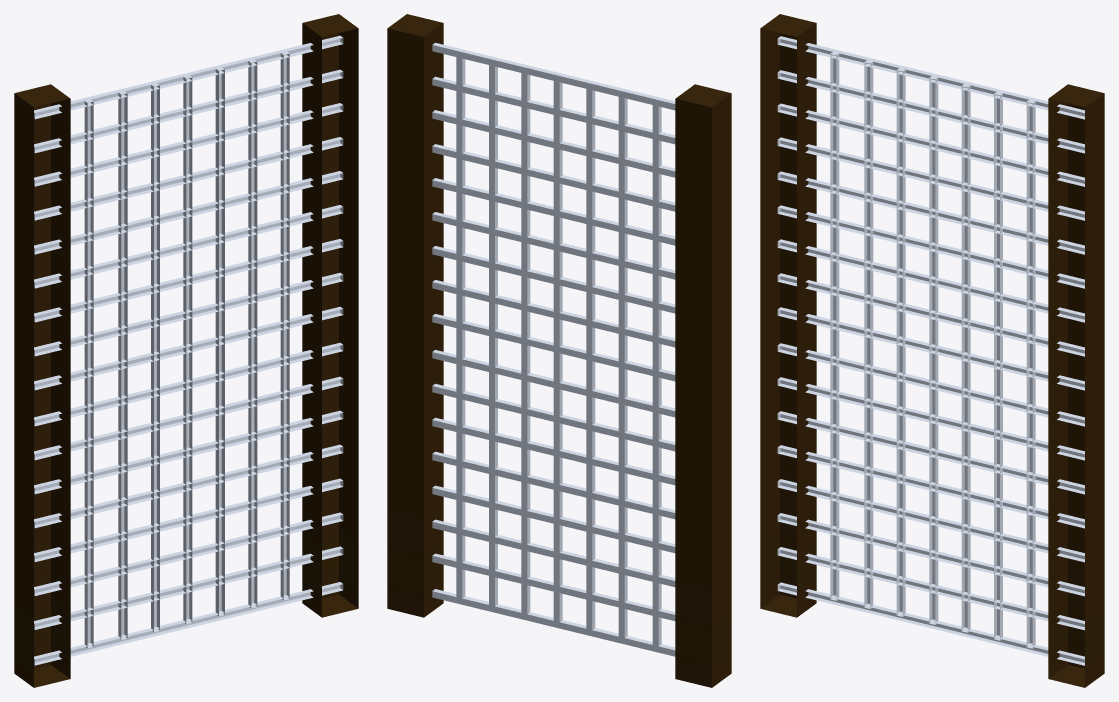
Rendered from wang_1.FBX.
3 views of the same model, side by side, from view 1: azimuth 30°, elevation 25°; view 2: azimuth 150°, elevation 25°; view 3: azimuth 330°, elevation 25° (orthographic).
Visible parts, largest first — view 1: wang_1; view 2: wang_1; view 3: wang_1.
Boxes of the visible parts, box(x1,y1,x2,y2) form: wang_1: box(14, 14, 358, 687); wang_1: box(387, 14, 731, 687); wang_1: box(760, 14, 1104, 687).
Size of the model in its own units: 7.7 by 13.17 by 0.8036.
